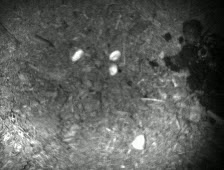corn: (129, 132, 147, 152), (68, 47, 86, 64), (105, 60, 121, 78), (108, 48, 122, 63)
